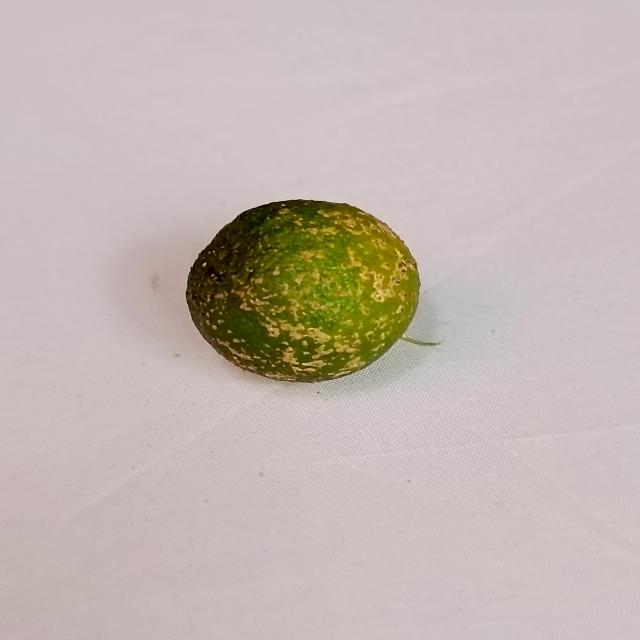scab: (185, 192, 428, 381)
